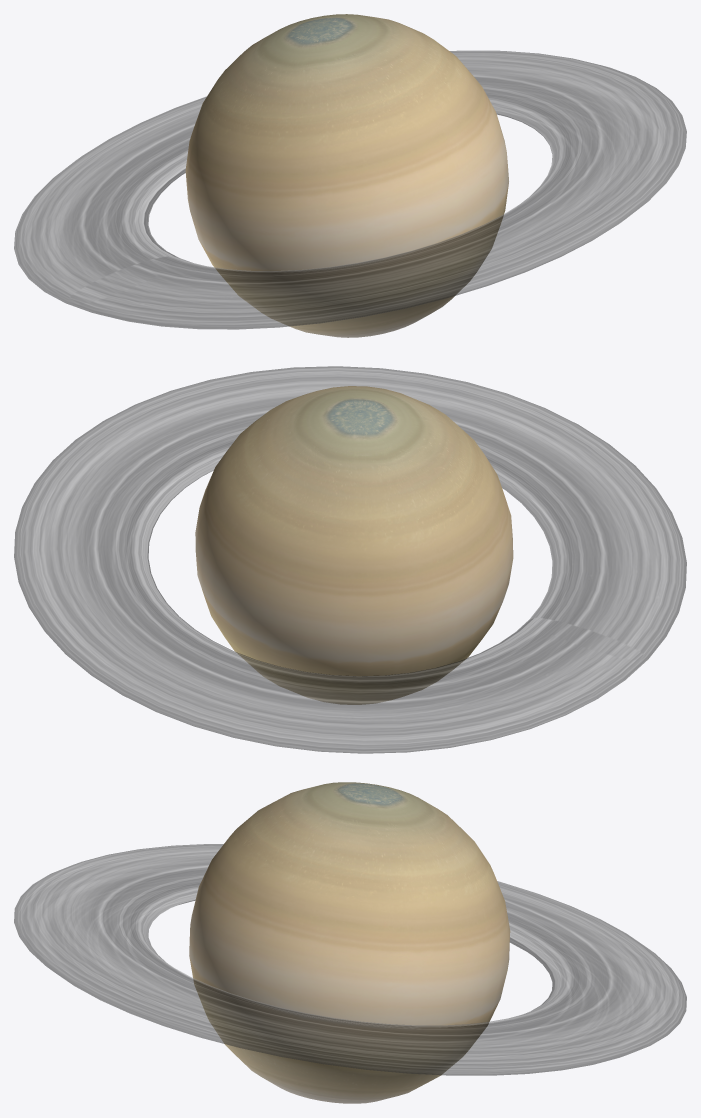
Rendered from Saturn.fbx.
The picture shows the model from 3 angles, top to bottom: view 1: azimuth 30°, elevation 25°; view 2: azimuth 150°, elevation 25°; view 3: azimuth 270°, elevation 25°; orthographic projection.
Parts seen in each view (by area): view 1: Sphere, Torus; view 2: Torus, Sphere; view 3: Sphere, Torus.
Boxes of the visible parts, x1,y1,x2,y2 form: Sphere: (185,14,508,337); Torus: (14,50,686,329); Torus: (14,366,686,753); Sphere: (195,386,513,704); Sphere: (189,782,510,1103); Torus: (14,844,686,1075).
Bounding box in the file's own units: 440 × 210 × 439.
